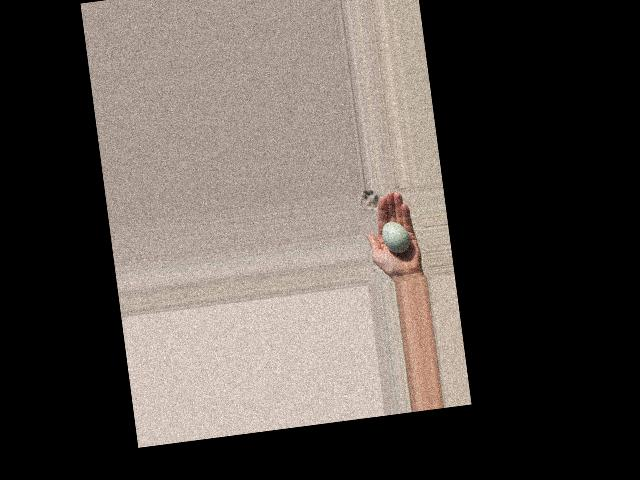egg: (381, 218, 411, 253)
